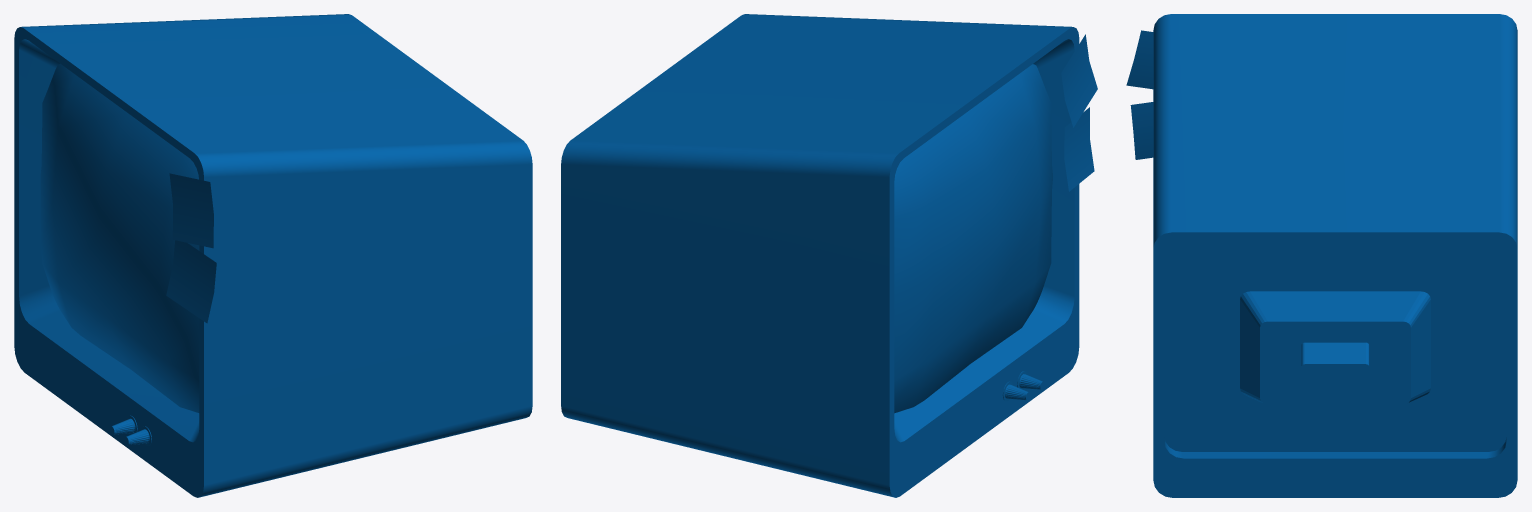
File: monitor.fbx
3 views of the same model, side by side, from view 1: azimuth 30°, elevation 25°; view 2: azimuth 150°, elevation 25°; view 3: azimuth 270°, elevation 25° (orthographic). The views are drawn at different scales.
Visible parts, largest first — view 1: monitor, ekran1, listche_2, listche_1; view 2: monitor, ekran1, listche_1, listche_2; view 3: monitor, listche_2, listche_1.
Boxes of the visible parts, x1,y1,x2,y2 form: monitor: [14, 14, 532, 497]; ekran1: [40, 63, 199, 412]; listche_2: [166, 240, 216, 323]; listche_1: [169, 173, 213, 248]; monitor: [561, 14, 1079, 497]; ekran1: [894, 64, 1052, 413]; listche_1: [1061, 34, 1097, 127]; listche_2: [1064, 107, 1094, 191]; monitor: [1153, 14, 1517, 497]; listche_2: [1130, 102, 1153, 159]; listche_1: [1126, 30, 1153, 89].
Size of the model in its own units: 61.12 by 50.66 by 54.41.
